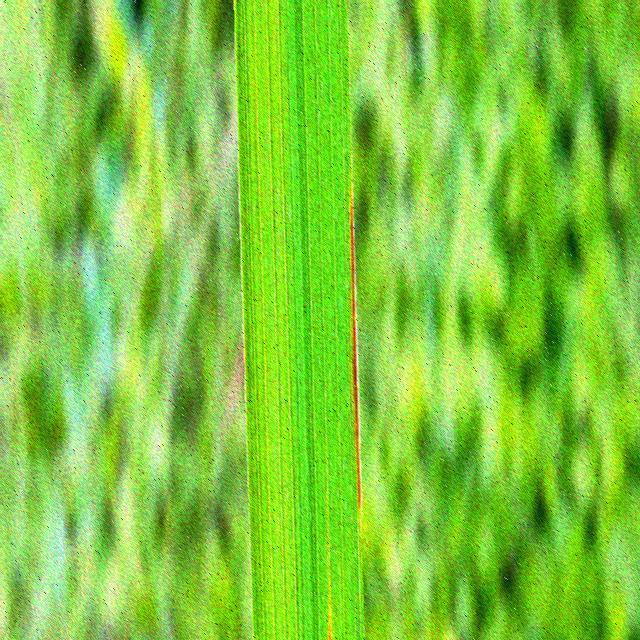NBS: (350, 186, 361, 522), (328, 610, 332, 640)
